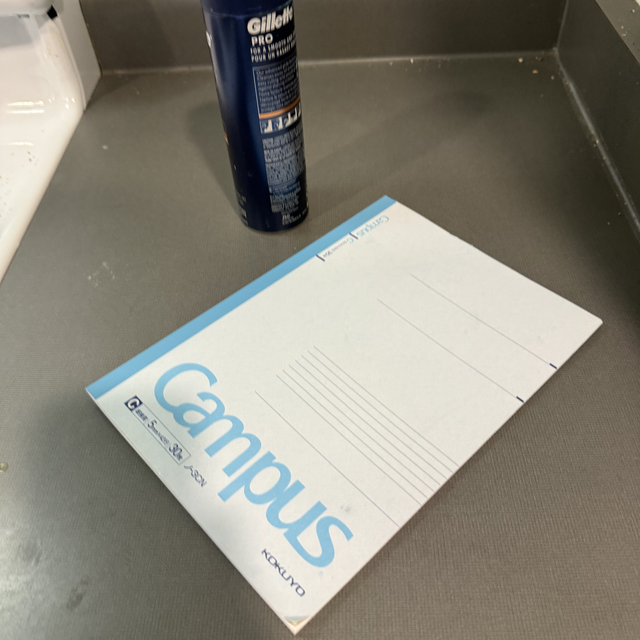Aerosol: (192, 8, 349, 243)
Paper: (125, 219, 572, 578)
